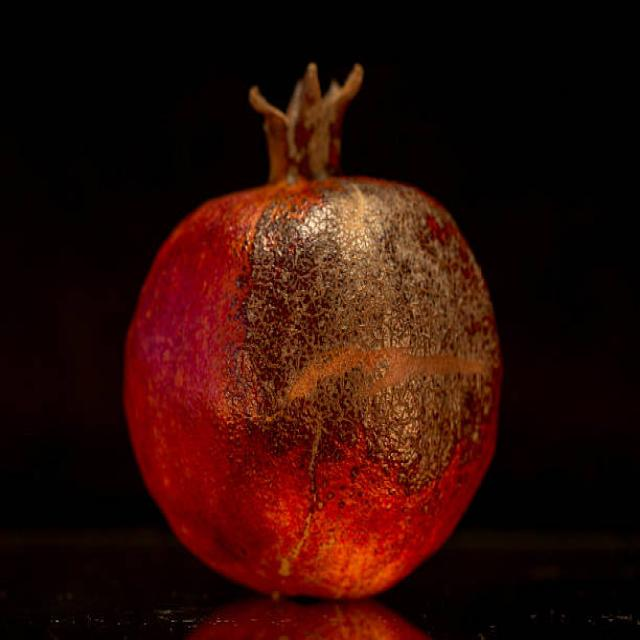overripe: (119, 59, 506, 600)
